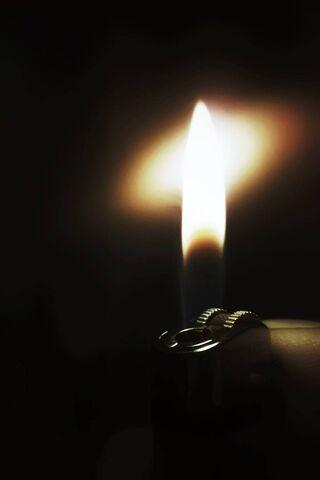Fire: (183, 95, 230, 326)
